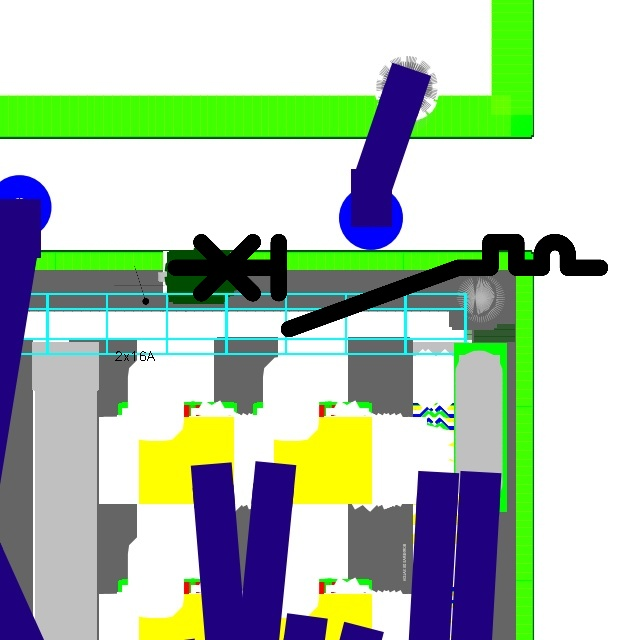interruptor_termomagnetico: (164, 231, 611, 340)
